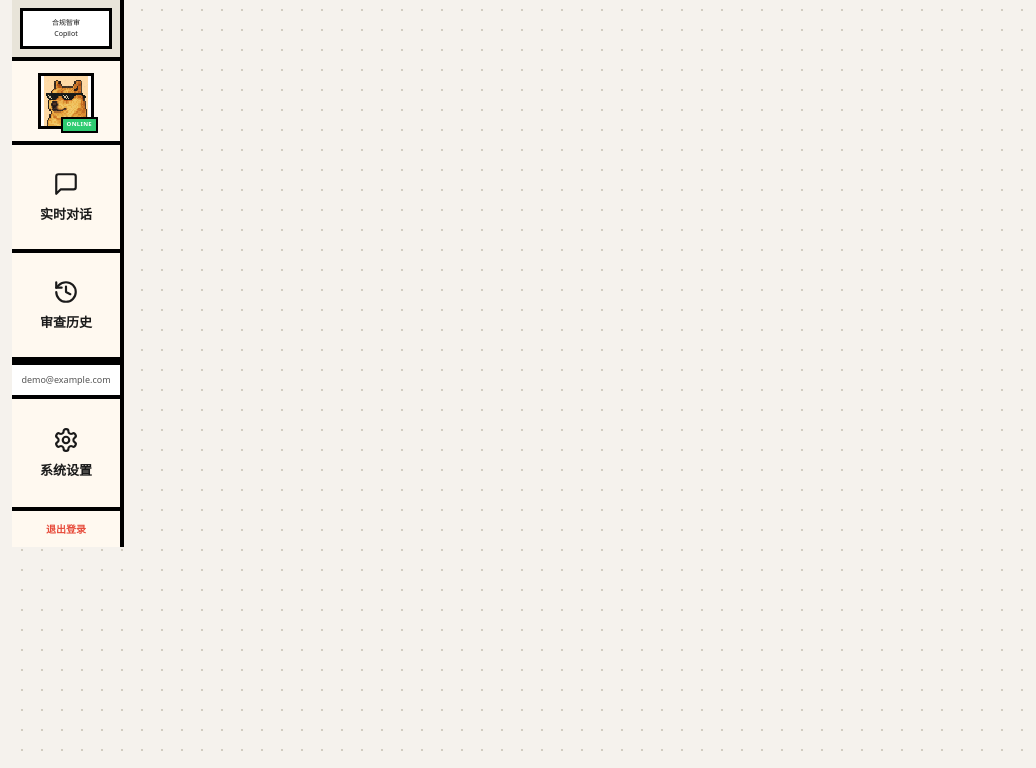
Test case: SideNav › shows a readable empty state when there is no review history
Click the button "审查历史": point(66, 307) [12,253,120,361]
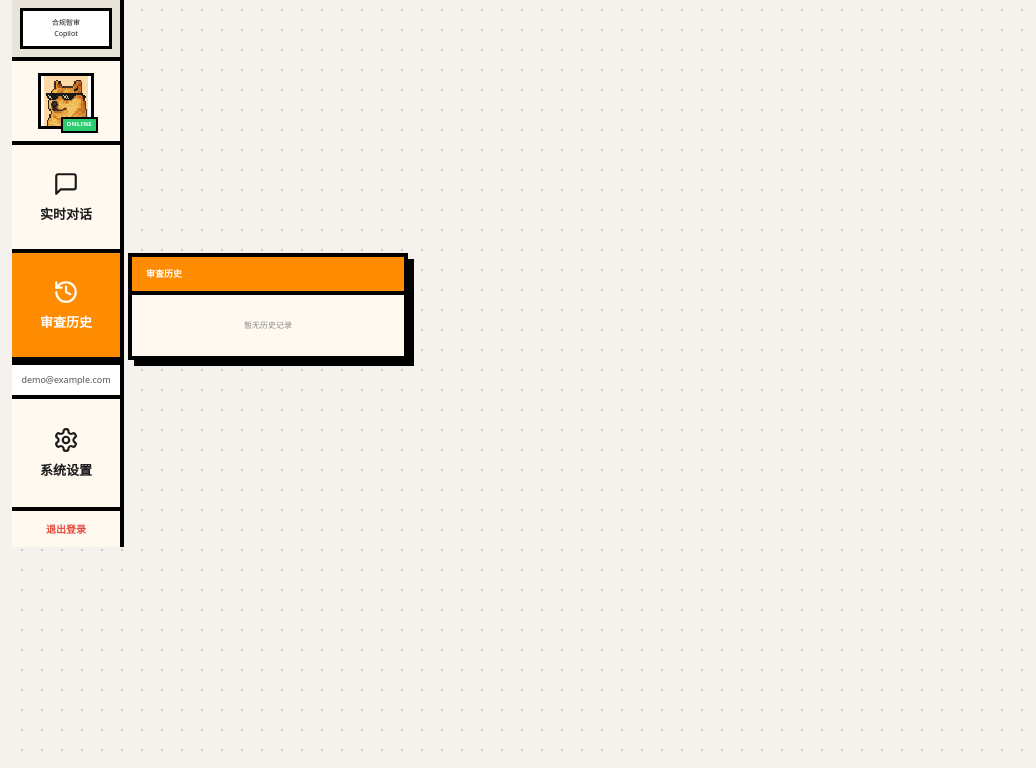
Result: the text "暂无历史记录" is shown at [244,319,292,330]
